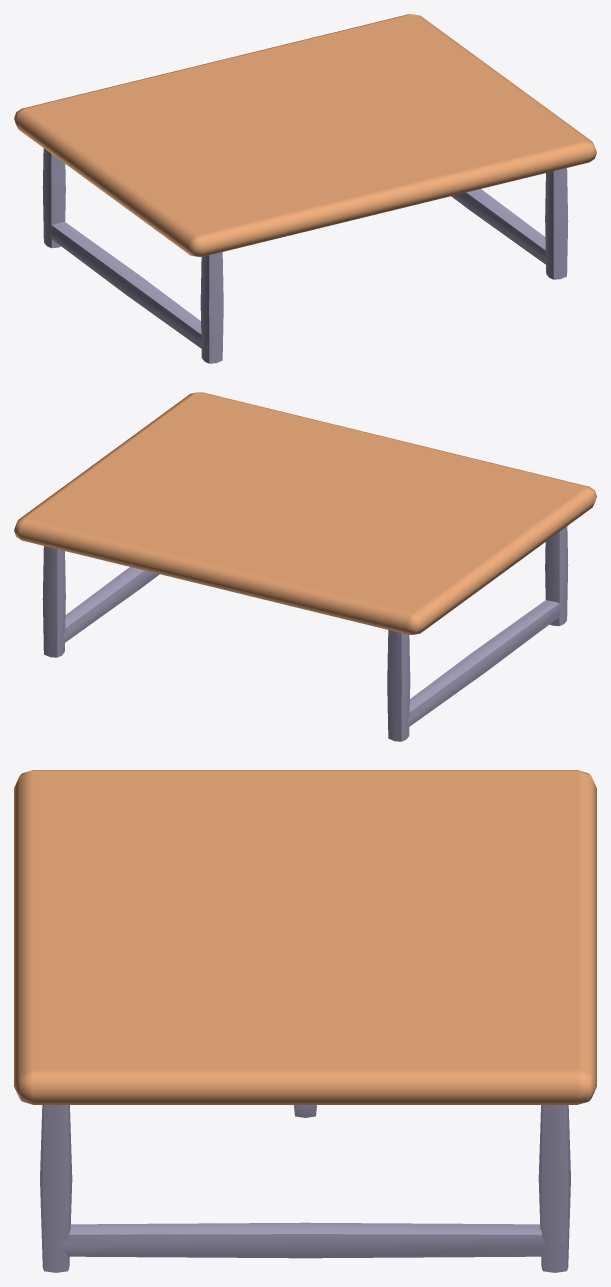
Rendered from desk-long.glb.
3 renders of one model, top to bottom at view 1: azimuth 30°, elevation 25°; view 2: azimuth 150°, elevation 25°; view 3: azimuth 270°, elevation 25°, orthographic. The views are drawn at different scales.
Visible parts, largest first — view 1: desktop, part (×5); view 2: desktop, part (×5); view 3: desktop, part (×3).
Part boxes in pixels (bbox=[...]): desktop: bbox=[14, 14, 596, 256]; part (×5): bbox=[42, 148, 568, 363]; desktop: bbox=[14, 392, 596, 634]; part (×5): bbox=[42, 526, 568, 741]; desktop: bbox=[14, 770, 596, 1104]; part (×3): bbox=[40, 1105, 570, 1272].
Bounding box in the file's own units: 2.3 × 0.74 × 1.8.
1 material, 1 textured.
